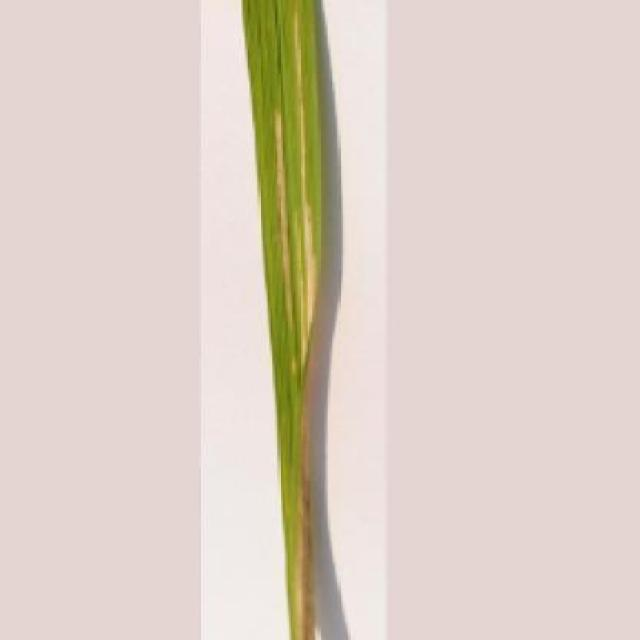Brown_Spot: (228, 0, 332, 640)
